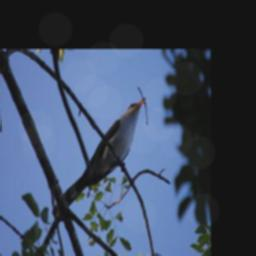Cuckoo: (63, 95, 148, 202)
